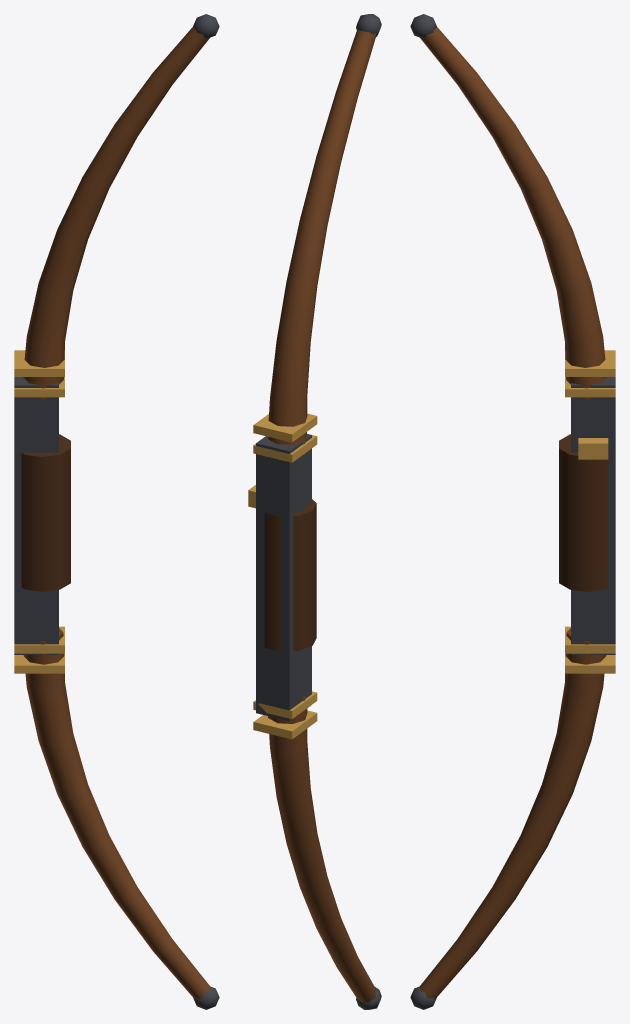
File: bow.glb
3 views of the same model, side by side, from view 1: azimuth 90°, elevation 25°; view 2: azimuth 150°, elevation 25°; view 3: azimuth 270°, elevation 25° (orthographic).
Visible parts, largest first — view 1: Bow_Wood, Bow_Darksteel, Bow_Leather, Bow_Brass; view 2: Bow_Wood, Bow_Darksteel, Bow_Leather, Bow_Brass; view 3: Bow_Wood, Bow_Leather, Bow_Darksteel, Bow_Brass.
Part boxes in pixels (bbox=[...]): Bow_Wood: bbox=[23, 27, 210, 999]; Bow_Darksteel: bbox=[14, 14, 219, 1009]; Bow_Leather: bbox=[21, 434, 70, 591]; Bow_Brass: bbox=[14, 350, 64, 673]; Bow_Wood: bbox=[267, 29, 376, 1002]; Bow_Darksteel: bbox=[256, 14, 381, 1009]; Bow_Leather: bbox=[264, 499, 316, 651]; Bow_Brass: bbox=[248, 413, 317, 739]; Bow_Wood: bbox=[419, 27, 606, 999]; Bow_Leather: bbox=[559, 434, 608, 591]; Bow_Darksteel: bbox=[410, 14, 615, 1009]; Bow_Brass: bbox=[565, 350, 615, 673].
Size of the model in its own units: 0.042 by 0.738 by 0.138.
